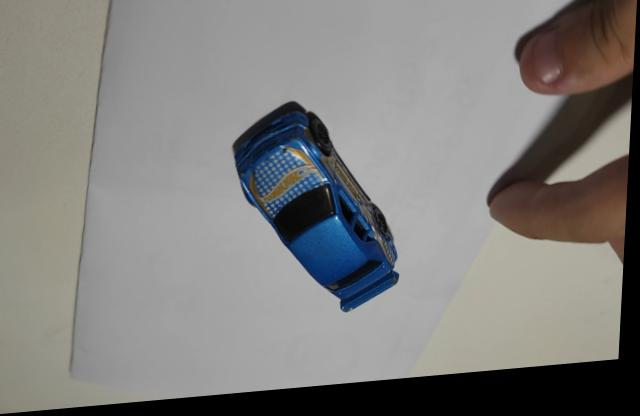04_MERZEDES: (232, 105, 404, 319)
